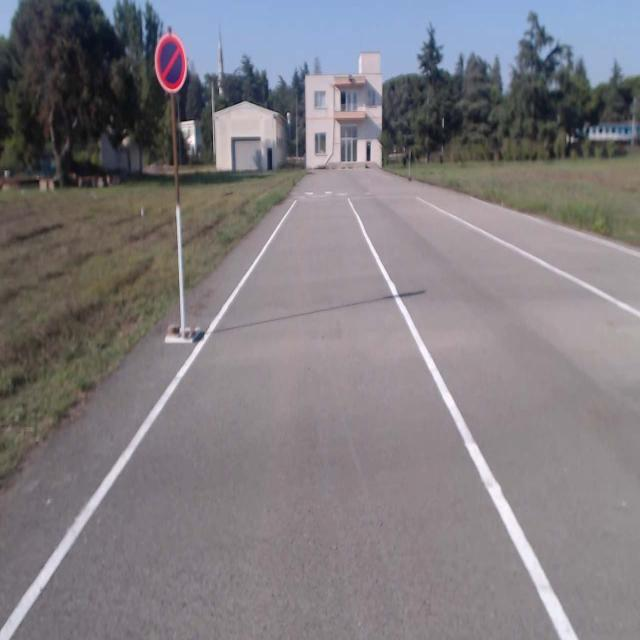parkyasak: (156, 33, 186, 91)
